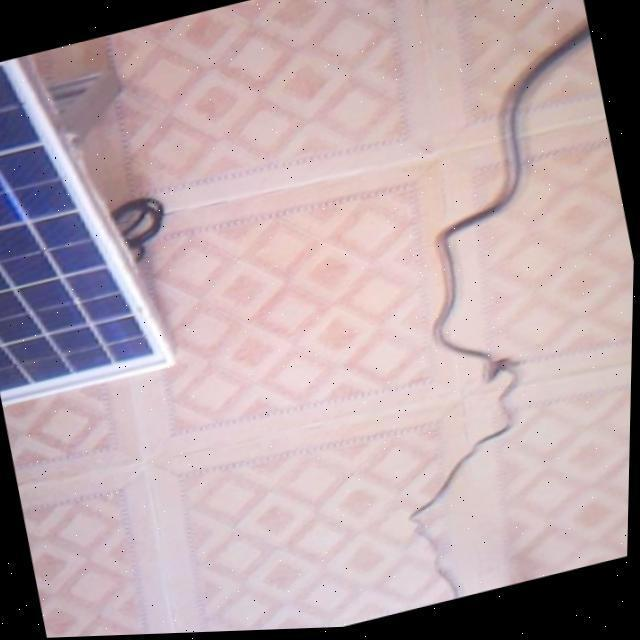Normal Solar Panel: (0, 32, 180, 406)
